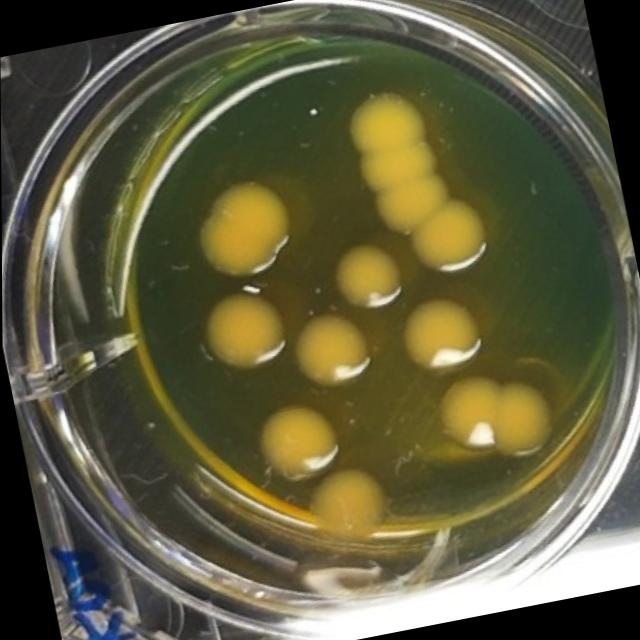vibrio: (335, 70, 501, 290), (428, 356, 568, 476), (187, 168, 302, 285), (295, 455, 400, 549), (249, 393, 352, 488), (194, 282, 292, 380), (393, 286, 487, 378), (286, 304, 378, 394), (328, 238, 408, 314)
